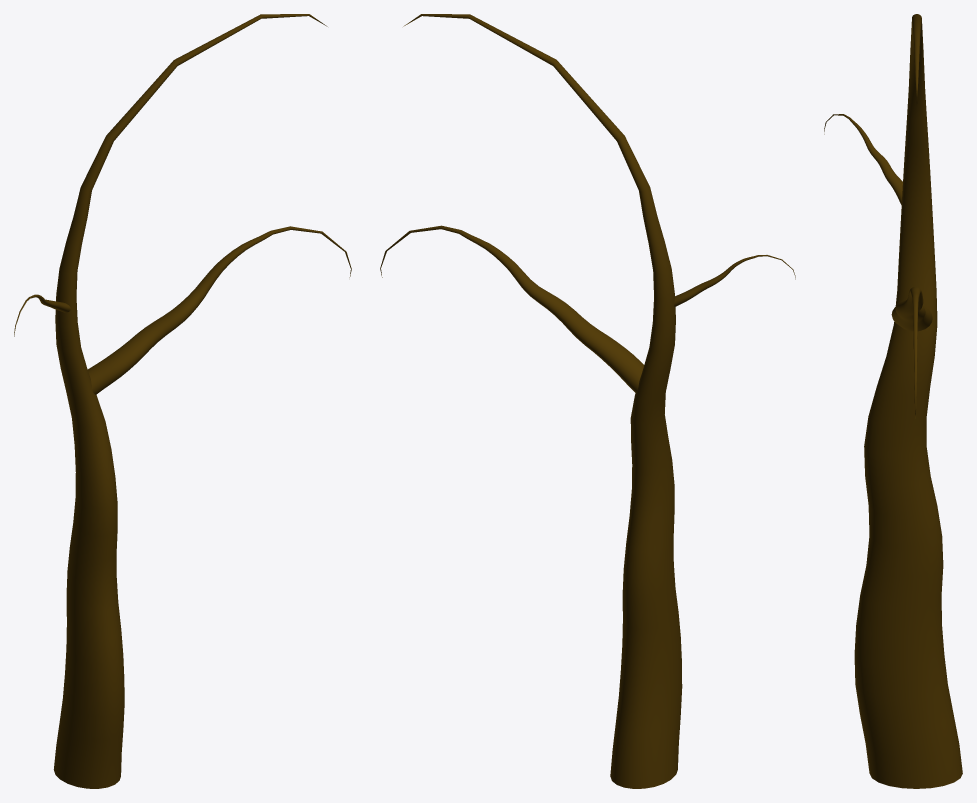
The model's file is Plant 2 Stage 1.fbx.
The picture shows the model from 3 angles, left to right: view 1: azimuth 30°, elevation 25°; view 2: azimuth 150°, elevation 25°; view 3: azimuth 270°, elevation 25°; orthographic projection. The views are drawn at different scales.
Parts seen in each view (by area): view 1: pCone1, pasted__pCone1; view 2: pCone1, pasted__pCone1; view 3: pCone1, pasted__pCone1, pasted__pasted__pCone1.
Part boxes in pixels (left/top/right/bottom): pCone1: left=53, top=14, right=327, bottom=788; pasted__pCone1: left=87, top=226, right=351, bottom=394; pCone1: left=403, top=14, right=682, bottom=788; pasted__pCone1: left=380, top=225, right=644, bottom=392; pCone1: left=854, top=14, right=962, bottom=788; pasted__pCone1: left=891, top=287, right=932, bottom=418; pasted__pasted__pCone1: left=824, top=114, right=902, bottom=204.
Bounding box in the file's own units: 5.54 × 10.07 × 1.51.
